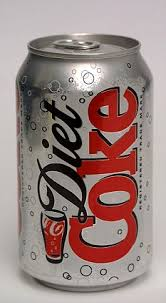can: (12, 31, 161, 293)
